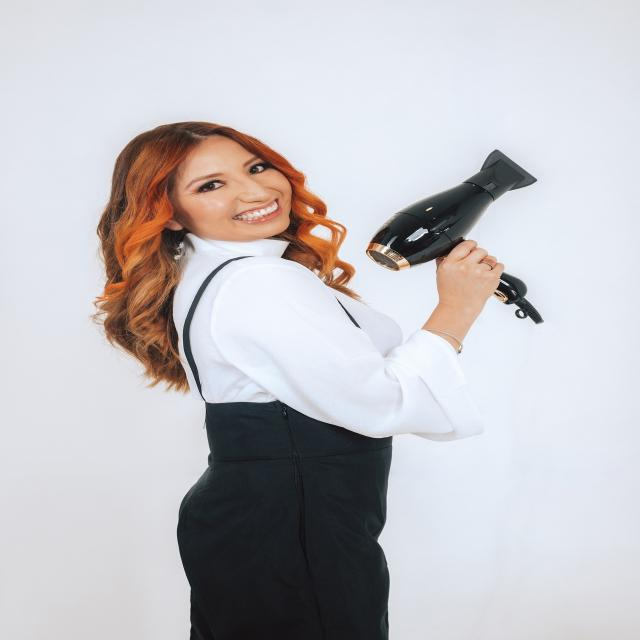dryer: (364, 147, 545, 324)
